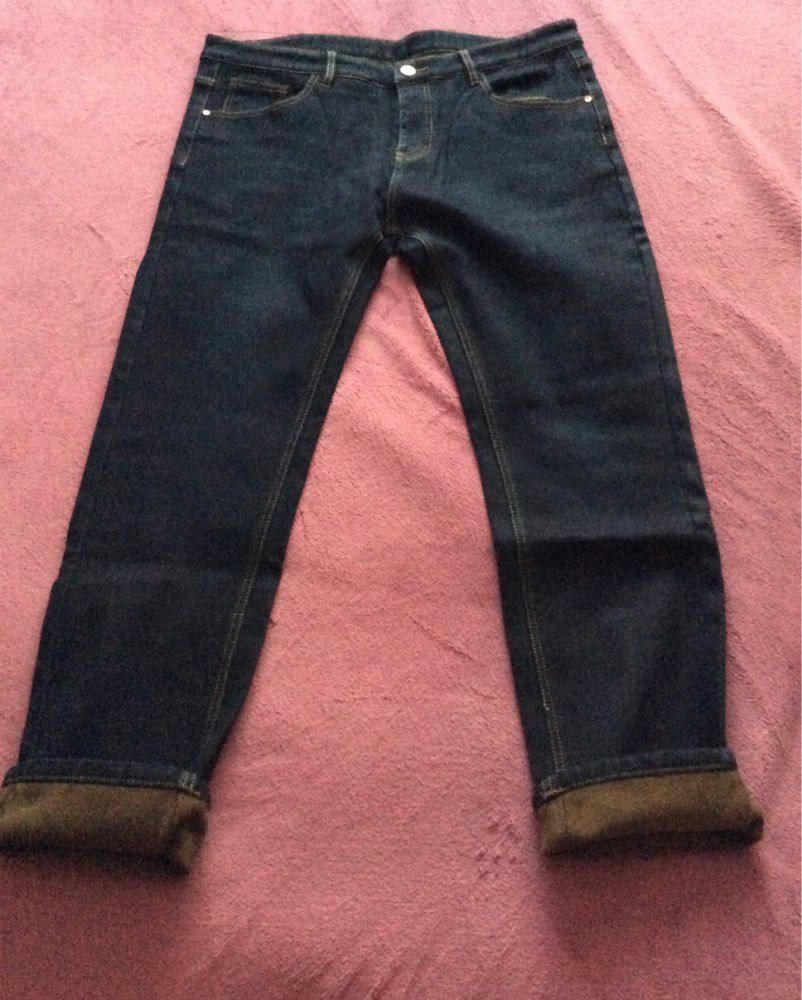jeans: (8, 48, 755, 869)
